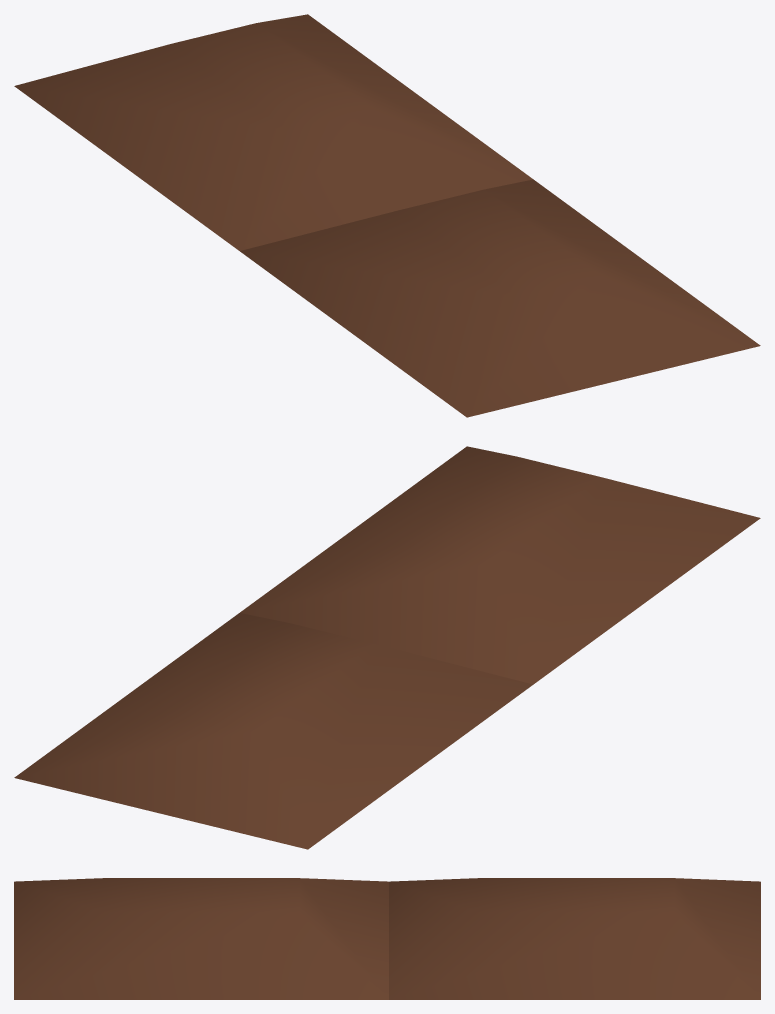
The model's file is Load_cont_GBJ_Half.glb.
3 renders of one model, top to bottom at view 1: azimuth 30°, elevation 25°; view 2: azimuth 150°, elevation 25°; view 3: azimuth 270°, elevation 25°, orthographic. The views are drawn at different scales.
Parts seen in each view (by area): view 1: Load_cont_GBJ_Half; view 2: Load_cont_GBJ_Half; view 3: Load_cont_GBJ_Half.
Part boxes in pixels (left/top/right/bottom): Load_cont_GBJ_Half: left=14, top=14, right=760, bottom=417; Load_cont_GBJ_Half: left=14, top=446, right=760, bottom=849; Load_cont_GBJ_Half: left=14, top=878, right=760, bottom=999.
Size of the model in its own units: 2.02 by 0.3609 by 5.38.
Materials: 1 (1 with a texture image).
